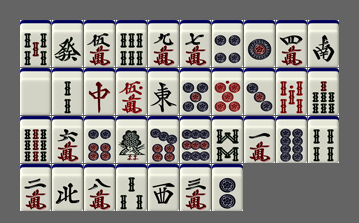0m: (116, 68, 147, 115)
0p: (212, 68, 243, 115)
0s: (276, 68, 307, 115)
1m: (244, 116, 275, 163)
1p: (244, 20, 275, 67)
1s: (116, 116, 147, 163)
1z: (148, 68, 179, 115)
2m: (20, 164, 51, 211)
2p: (212, 164, 243, 211)
2s: (52, 68, 83, 115)
2z: (308, 20, 339, 67)
3m: (180, 164, 211, 211)
3p: (244, 68, 275, 115)
3s: (116, 164, 147, 211)
3z: (148, 164, 179, 211)
4m: (276, 20, 307, 67)
4p: (212, 20, 243, 67)
4s: (308, 116, 339, 163)
4z: (52, 164, 83, 211)
5m: (84, 20, 115, 67)
5p: (180, 68, 211, 115)
5s: (20, 20, 51, 67)
5z: (20, 68, 51, 115)
6m: (52, 116, 83, 163)
6p: (84, 116, 115, 163)
6s: (116, 20, 147, 67)
6z: (52, 20, 83, 67)
7m: (180, 20, 211, 67)
7p: (148, 116, 179, 163)
7s: (308, 68, 339, 115)
7z: (84, 68, 115, 115)
8m: (84, 164, 115, 211)
8p: (276, 116, 307, 163)
8s: (212, 116, 243, 163)
9m: (148, 20, 179, 67)
9p: (180, 116, 211, 163)
9s: (20, 116, 51, 163)
